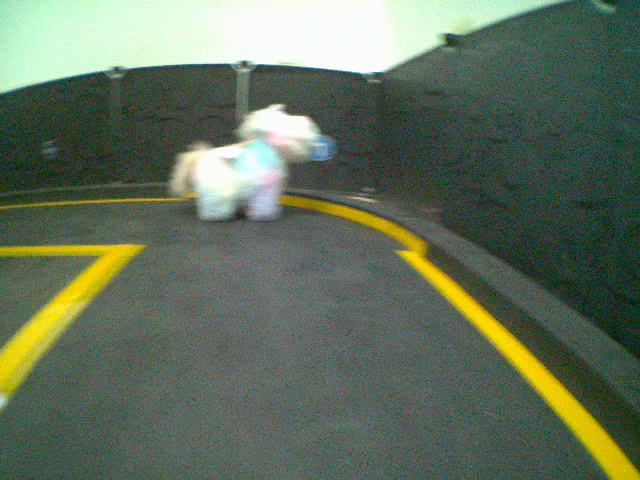unicorn: (169, 100, 315, 223)
